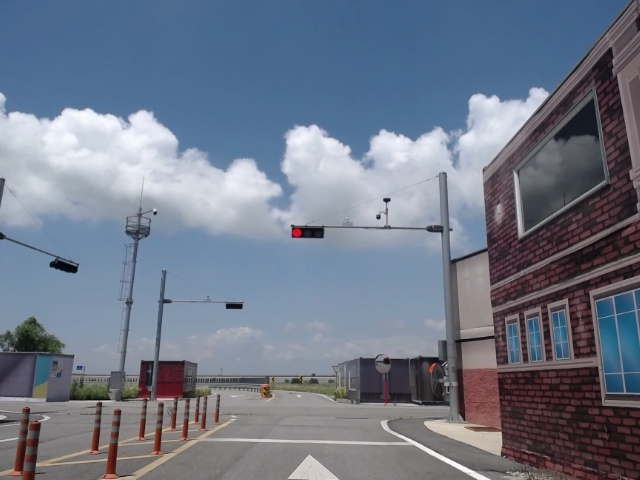red_3: (292, 227, 325, 238)
